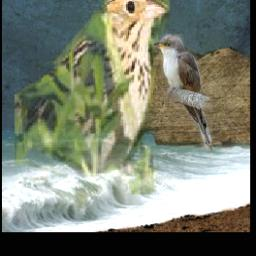Cuckoo: (153, 35, 214, 153)
Sparrow: (15, 0, 170, 195)
